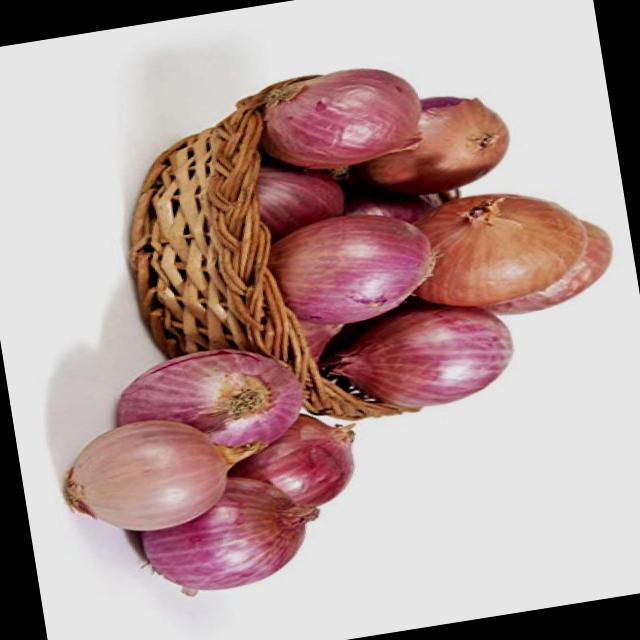onion: (59, 404, 273, 540), (134, 468, 322, 604), (406, 174, 586, 310), (121, 332, 309, 462), (326, 297, 527, 417), (266, 198, 447, 329), (253, 52, 437, 177), (368, 89, 511, 197)
